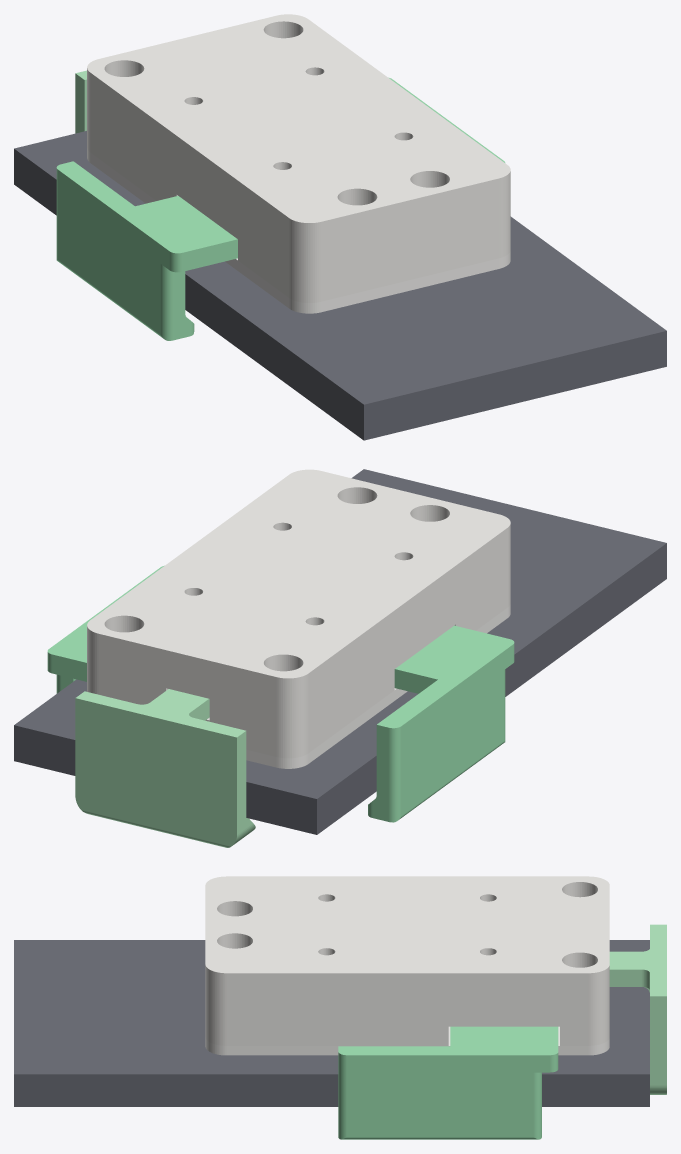
Rendered from preview_phone75.glb.
3 renders of one model, top to bottom at view 1: azimuth 30°, elevation 25°; view 2: azimuth 150°, elevation 25°; view 3: azimuth 270°, elevation 25°, orthographic. The views are drawn at different scales.
Visible parts, largest first — view 1: base, phone, arm_l, cover, foot; view 2: base, phone, foot, arm_l, cover, arm_r; view 3: base, phone, arm_r, foot, cover.
Boxes of the visible parts, x1,y1,x2,y2 form: base: (87, 14, 510, 302); phone: (14, 131, 666, 440); arm_l: (56, 161, 237, 340); cover: (87, 148, 510, 313); foot: (75, 70, 86, 133); base: (87, 469, 510, 758); phone: (14, 469, 666, 834); foot: (75, 689, 255, 847); arm_l: (368, 625, 514, 822); cover: (246, 604, 510, 768); arm_r: (47, 565, 164, 693); base: (205, 876, 609, 1045); phone: (14, 940, 649, 1106); arm_r: (338, 1026, 558, 1139); foot: (609, 924, 666, 1094); cover: (205, 1026, 609, 1055).
Bounding box in the file's own units: 85 × 36.4 × 154.
